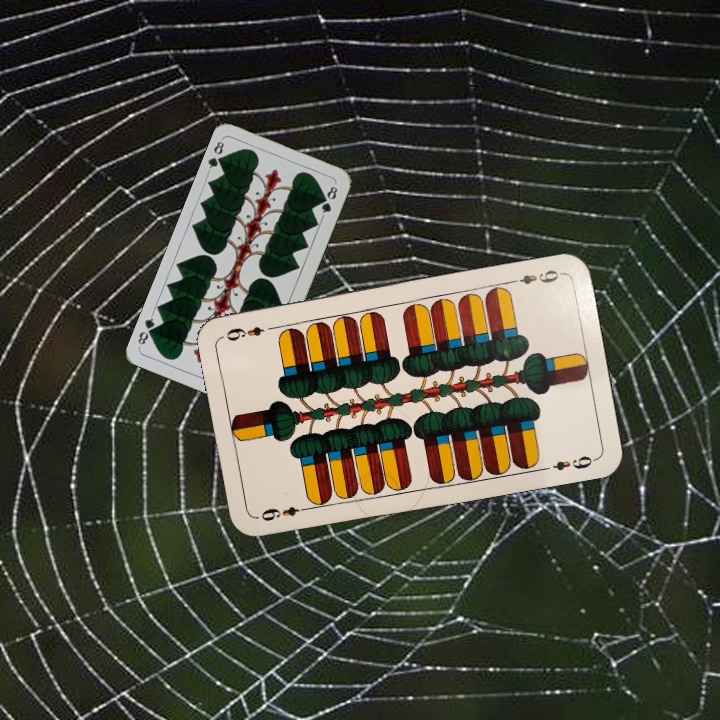E9: (253, 502, 312, 524), (506, 266, 565, 287)
G8: (204, 135, 228, 174)
